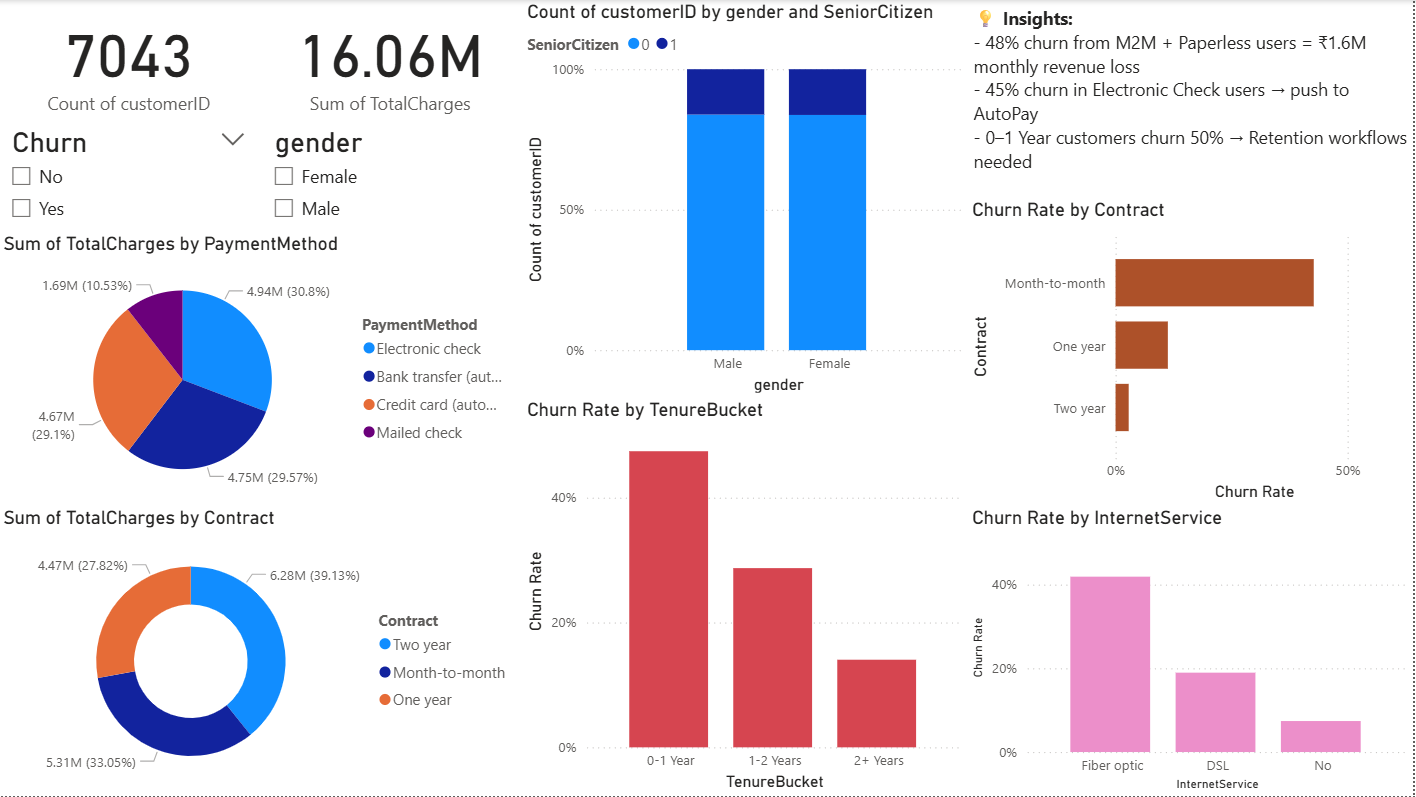

This screenshot's page, from the dashboard's own definition file:
{"tool":"powerbi","page":{"name":"Visualization","canvas":[1280,720],"ordinal":0},"visuals":[{"type":"pieChart","fields":{"Category":["WA_Fn-UseC_-Telco-Customer-Churn.PaymentMethod"],"Y":["Sum(WA_Fn-UseC_-Telco-Customer-Churn.TotalCharges)"]},"box":[0,210.5,473.3,247.7],"z":0},{"type":"donutChart","fields":{"Y":["Sum(WA_Fn-UseC_-Telco-Customer-Churn.TotalCharges)"],"Category":["WA_Fn-UseC_-Telco-Customer-Churn.Contract"]},"box":[0,458.1,473.3,261.6],"z":1000},{"type":"slicer","fields":{"Values":["WA_Fn-UseC_-Telco-Customer-Churn.Churn"]},"box":[0,109.8,236,100.2],"z":2000},{"type":"barChart","fields":{"Category":["WA_Fn-UseC_-Telco-Customer-Churn.Contract"],"Y":["TelecomChurn.Churn Rate"]},"box":[876.3,179.8,403.6,278.1],"z":3000},{"type":"columnChart","fields":{"Category":["TelecomChurn.InternetService"],"Y":["TelecomChurn.Churn Rate"]},"box":[876.3,457.9,403.6,262.3],"z":4000},{"type":"columnChart","fields":{"Y":["TelecomChurn.Churn Rate"],"Category":["TelecomChurn.TenureBucket"]},"box":[473.3,360.5,403.5,359.3],"z":5000},{"type":"card","fields":{"Values":["Sum(TelecomChurn.TotalCharges)"]},"box":[236,0,237.2,109.3],"z":6000},{"type":"hundredPercentStackedColumnChart","fields":{"Category":["TelecomChurn.gender"],"Series":["TelecomChurn.SeniorCitizen"],"Y":["CountNonNull(TelecomChurn.customerID)"]},"box":[473.3,0,403.5,360.5],"z":7000},{"type":"card","fields":{"Values":["Count(TelecomChurn.customerID)"]},"box":[0,0,237.2,109.3],"z":8000},{"type":"slicer","fields":{"Values":["TelecomChurn.gender"]},"box":[237.2,109.3,236,100],"z":9000},{"type":"textbox","box":[877.4,0,402.5,179.8],"z":10000}]}

Visuals, with their boxes in screenshot pixels (x1, y1, x2, y2), scaled from the page's 1280x720 canvas onto the 1416x797 screenshot:
pieChart - WA_Fn-UseC_-Telco-Customer-Churn.PaymentMethod x Sum(WA_Fn-UseC_-Telco-Customer-Churn.TotalCharges): {"x1": 0, "y1": 233, "x2": 524, "y2": 507}
donutChart - Sum(WA_Fn-UseC_-Telco-Customer-Churn.TotalCharges) x WA_Fn-UseC_-Telco-Customer-Churn.Contract: {"x1": 0, "y1": 507, "x2": 524, "y2": 796}
slicer - WA_Fn-UseC_-Telco-Customer-Churn.Churn: {"x1": 0, "y1": 122, "x2": 261, "y2": 232}
barChart - WA_Fn-UseC_-Telco-Customer-Churn.Contract x TelecomChurn.Churn Rate: {"x1": 969, "y1": 199, "x2": 1415, "y2": 507}
columnChart - TelecomChurn.InternetService x TelecomChurn.Churn Rate: {"x1": 969, "y1": 507, "x2": 1415, "y2": 796}
columnChart - TelecomChurn.Churn Rate x TelecomChurn.TenureBucket: {"x1": 524, "y1": 399, "x2": 970, "y2": 796}
card - Sum(TelecomChurn.TotalCharges): {"x1": 261, "y1": 0, "x2": 523, "y2": 121}
hundredPercentStackedColumnChart - TelecomChurn.gender x TelecomChurn.SeniorCitizen: {"x1": 524, "y1": 0, "x2": 970, "y2": 399}
card - Count(TelecomChurn.customerID): {"x1": 0, "y1": 0, "x2": 262, "y2": 121}
slicer - TelecomChurn.gender: {"x1": 262, "y1": 121, "x2": 523, "y2": 232}
textbox: {"x1": 971, "y1": 0, "x2": 1415, "y2": 199}
